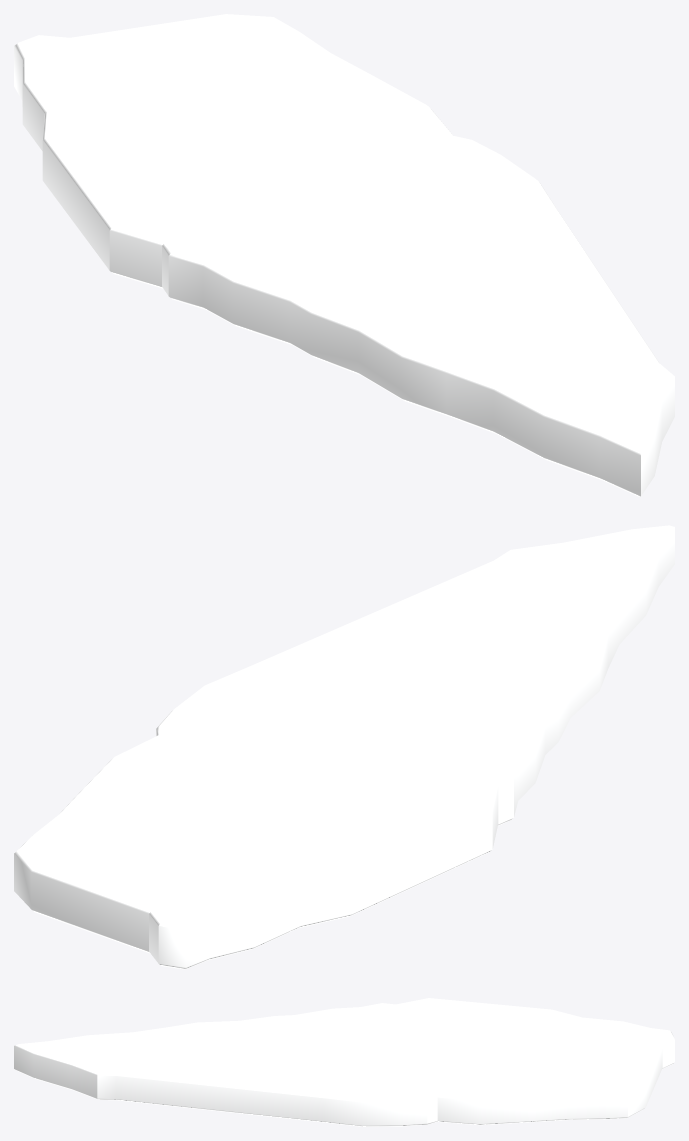
File: ice_floe_large_001.glb
The picture shows the model from 3 angles, top to bottom: view 1: azimuth 30°, elevation 25°; view 2: azimuth 150°, elevation 25°; view 3: azimuth 270°, elevation 25°; orthographic projection. The views are drawn at different scales.
Parts seen in each view (by area): view 1: ice_floe_large_001; view 2: ice_floe_large_001; view 3: ice_floe_large_001.
Boxes of the visible parts, box(x1,y1,x2,y2) form: ice_floe_large_001: box(14, 14, 674, 496); ice_floe_large_001: box(14, 525, 674, 969); ice_floe_large_001: box(14, 998, 674, 1126).
Size of the model in its own units: 7.96 by 0.9928 by 21.49.
Materials: 1 (1 with a texture image).
